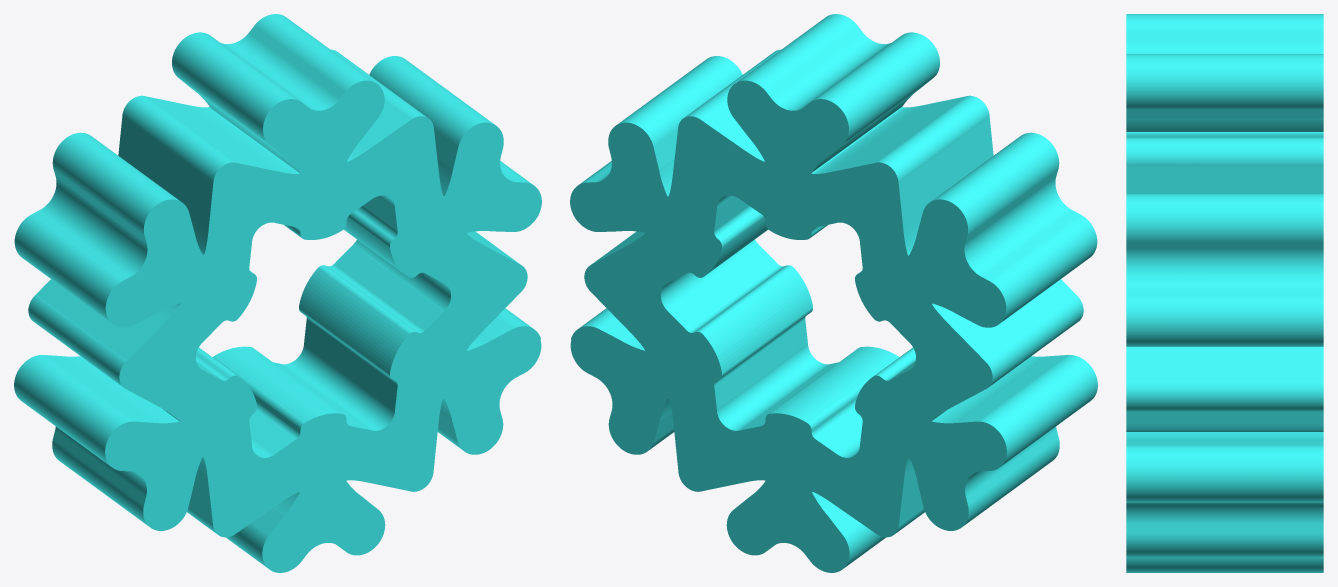
The model's file is ice.gltf.
3 renders of one model, left to right at view 1: azimuth 30°, elevation 25°; view 2: azimuth 150°, elevation 25°; view 3: azimuth 270°, elevation 25°, orthographic. The views are drawn at different scales.
Parts seen in each view (by area): view 1: Curve.013; view 2: Curve.013; view 3: Curve.013.
Part boxes in pixels (x1,y1,x2,y2): Curve.013: [14, 14, 541, 572]; Curve.013: [570, 14, 1097, 572]; Curve.013: [1126, 14, 1323, 572].
Bounding box in the file's own units: 3.71 × 3.85 × 1.34.
